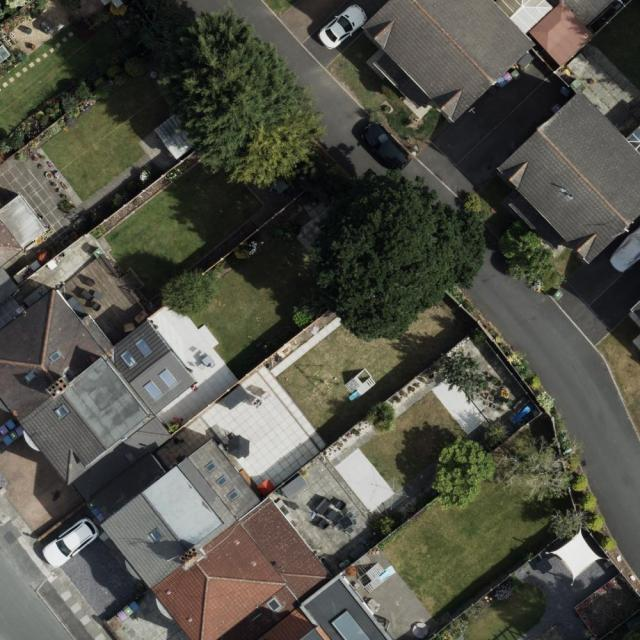roof: (0, 289, 398, 640), (358, 0, 616, 127), (496, 90, 640, 266), (0, 191, 53, 272)
skylight: (494, 0, 555, 34), (329, 609, 373, 640), (141, 377, 167, 403), (159, 366, 182, 389), (51, 398, 72, 421), (133, 337, 154, 358), (118, 350, 137, 373), (143, 526, 166, 545), (21, 367, 40, 386), (628, 127, 640, 155), (265, 595, 283, 613), (215, 472, 231, 491), (202, 459, 219, 475), (48, 347, 64, 363), (226, 488, 241, 503)
